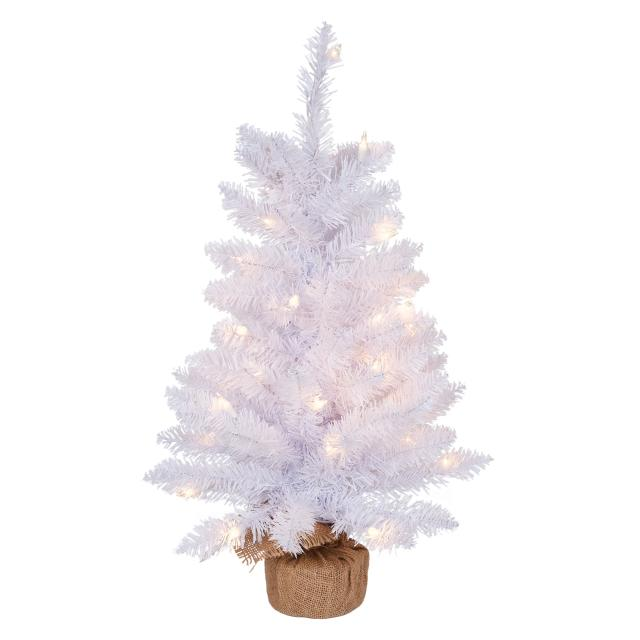Christmas-tree: (84, 16, 514, 554)
